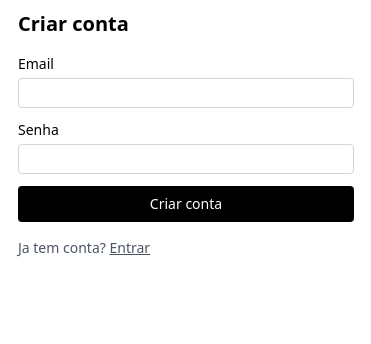
Test: SignupPage › exibe mensagem de erro quando o cadastro falha
In the field labelled "Email": (186, 93) x1=18 y1=78 x2=354 y2=108, type "novo@example.com"
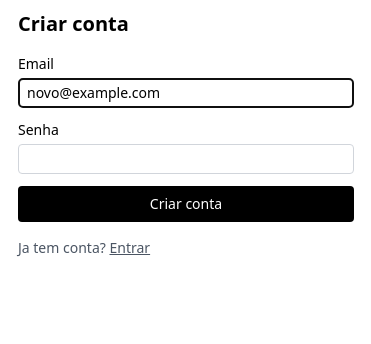
In the password field labelled "Senha": (186, 159) x1=18 y1=144 x2=354 y2=174, type "senha123"
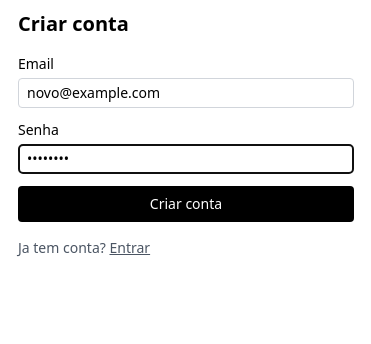
Click the button "Criar conta": (186, 204) x1=18 y1=186 x2=354 y2=222
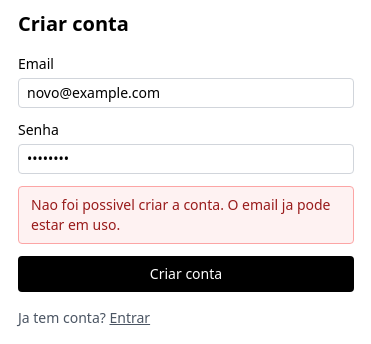
Expected: the message "Nao foi possivel criar a conta. O email ja pode estar em uso." is shown, x1=18 y1=186 x2=354 y2=244
